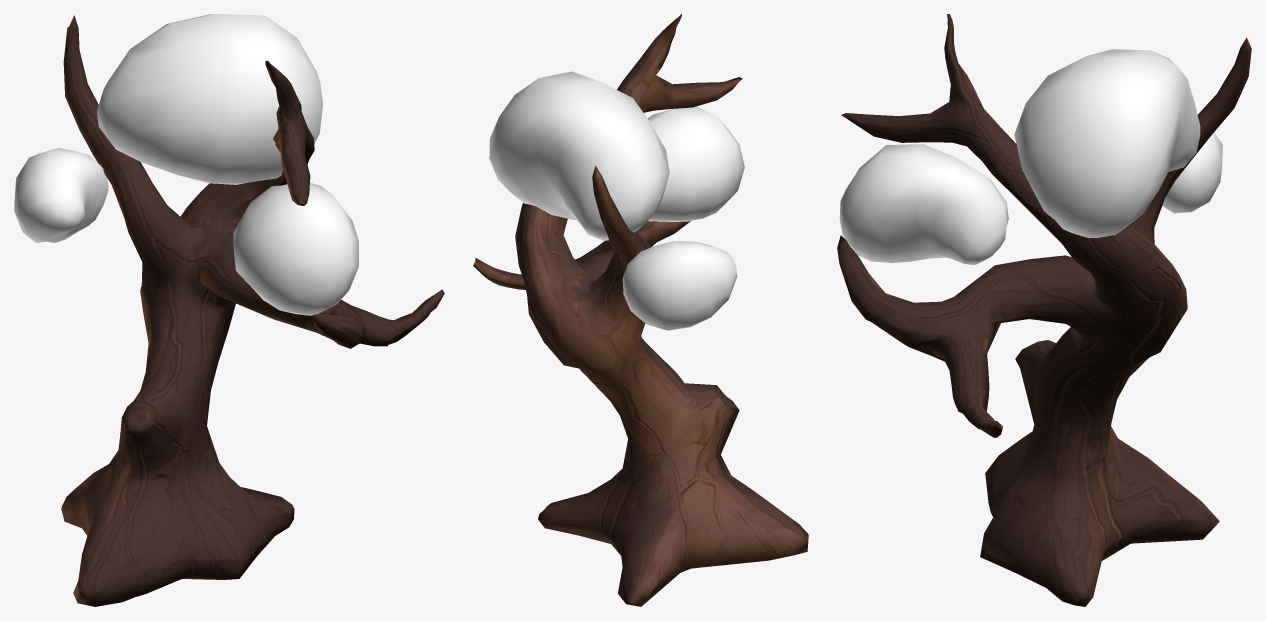
Rendered from tree4.fbx.
3 renders of one model, left to right at view 1: azimuth 30°, elevation 25°; view 2: azimuth 150°, elevation 25°; view 3: azimuth 270°, elevation 25°, orthographic. The views are drawn at different scales.
Visible parts, largest first — view 1: polySurface38; view 2: polySurface38; view 3: polySurface38.
Part boxes in pixels (<box>): polySurface38: <box>14,14,444,606</box>; polySurface38: <box>473,14,808,606</box>; polySurface38: <box>837,14,1251,606</box>.
Bounding box in the file's own units: 1130 × 1595 × 1071.
